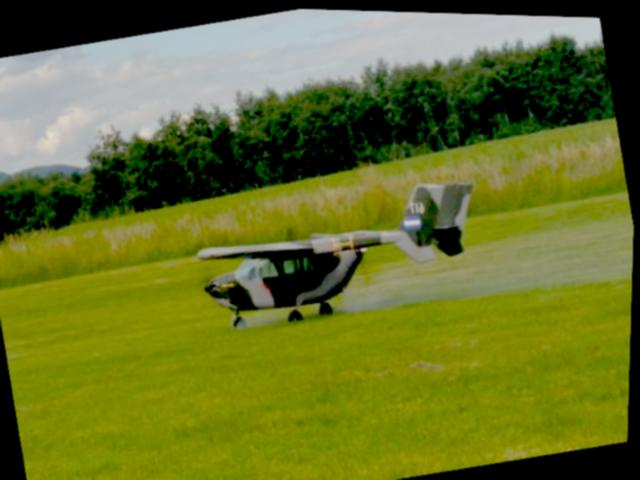uav: (186, 159, 500, 340)
